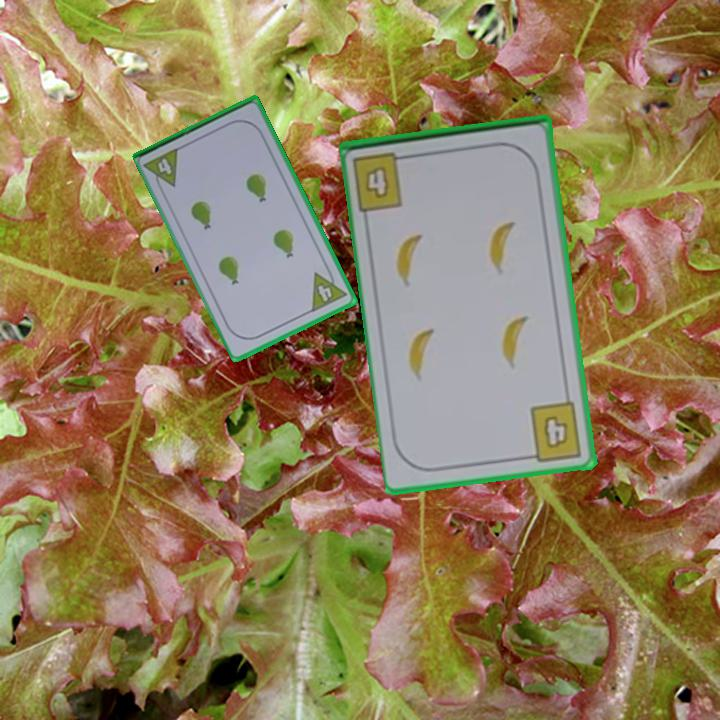4b: (349, 148, 415, 214), (522, 398, 585, 464)
4p: (308, 263, 350, 315), (141, 144, 183, 195)
